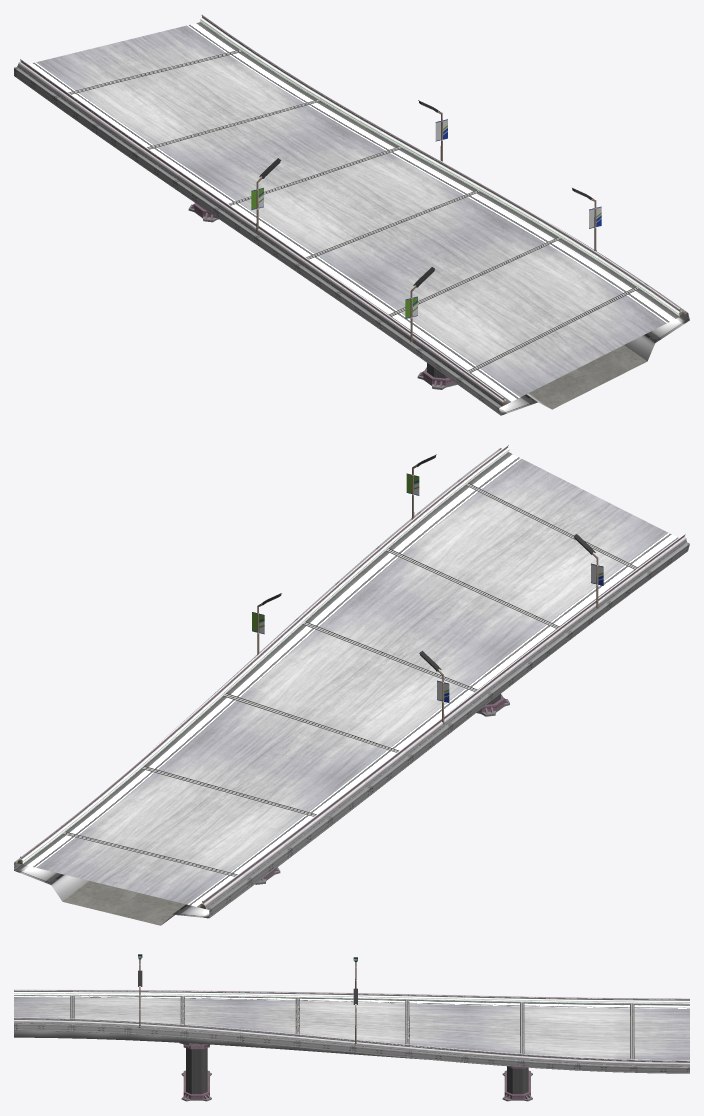
3 views of the same model, one above another, from view 1: azimuth 30°, elevation 25°; view 2: azimuth 150°, elevation 25°; view 3: azimuth 270°, elevation 25° (orthographic). The views are drawn at different scales.
Visible parts, largest first — view 1: straight_road, barrier_elevated, standard_bridge, banking_middle_lines; view 2: straight_road, barrier_elevated, standard_bridge, banking_middle_lines; view 3: straight_road, barrier_elevated, standard_bridge, banking_middle_lines, support_pylon, support_pylon_1, support_ground_1, support_ground.
Part boxes in pixels (<box>): straight_road: <box>29,22,679,403</box>; barrier_elevated: <box>17,14,684,406</box>; standard_bridge: <box>14,67,689,415</box>; banking_middle_lines: <box>76,53,625,367</box>; straight_road: <box>23,452,678,907</box>; barrier_elevated: <box>17,444,686,909</box>; standard_bridge: <box>14,448,689,925</box>; banking_middle_lines: <box>76,489,627,874</box>; straight_road: <box>14,995,689,1061</box>; barrier_elevated: <box>14,989,689,1066</box>; standard_bridge: <box>14,995,689,1073</box>; banking_middle_lines: <box>70,997,634,1059</box>; support_pylon: <box>186,1043,207,1094</box>; support_pylon_1: <box>507,1066,528,1094</box>; support_ground_1: <box>502,1070,532,1101</box>; support_ground: <box>181,1070,211,1101</box>.
Bounding box in the file's own units: 4525 × 4355 × 19200.
